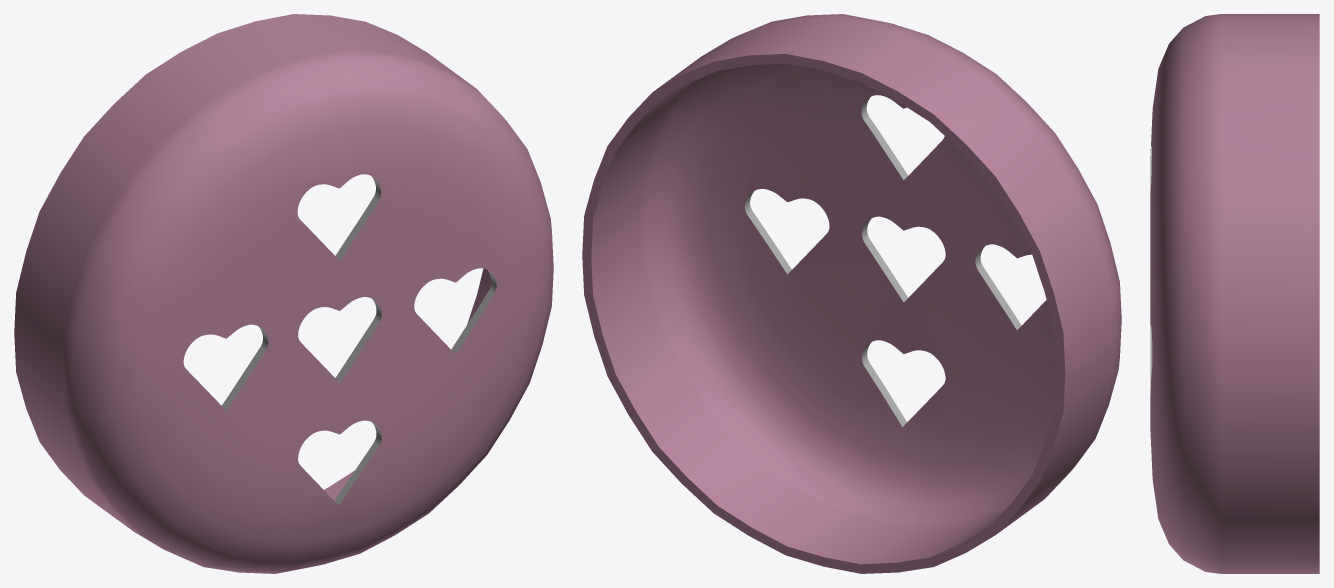
The model's file is ele_heart.fbx.
3 views of the same model, side by side, from view 1: azimuth 30°, elevation 25°; view 2: azimuth 150°, elevation 25°; view 3: azimuth 270°, elevation 25° (orthographic).
Parts seen in each view (by area): view 1: polySurface51; view 2: polySurface51; view 3: polySurface51.
Boxes of the visible parts, x1,y1,x2,y2 form: polySurface51: (14, 14, 553, 573); polySurface51: (582, 14, 1121, 573); polySurface51: (1150, 14, 1319, 573).
Bounding box in the file's own units: 60.28 × 60.28 × 18.31.
